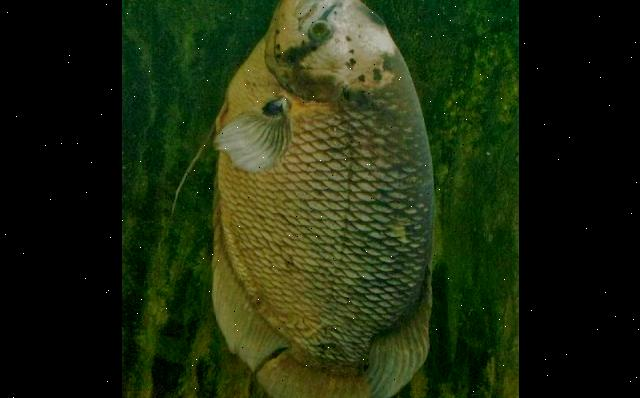Mulut: (263, 0, 361, 26)
Sirip Anal: (188, 201, 296, 385)
Sirip Dada: (203, 84, 304, 184)
Sirip Ekor: (241, 339, 380, 398)
Sirip Punggung: (355, 264, 443, 398)
